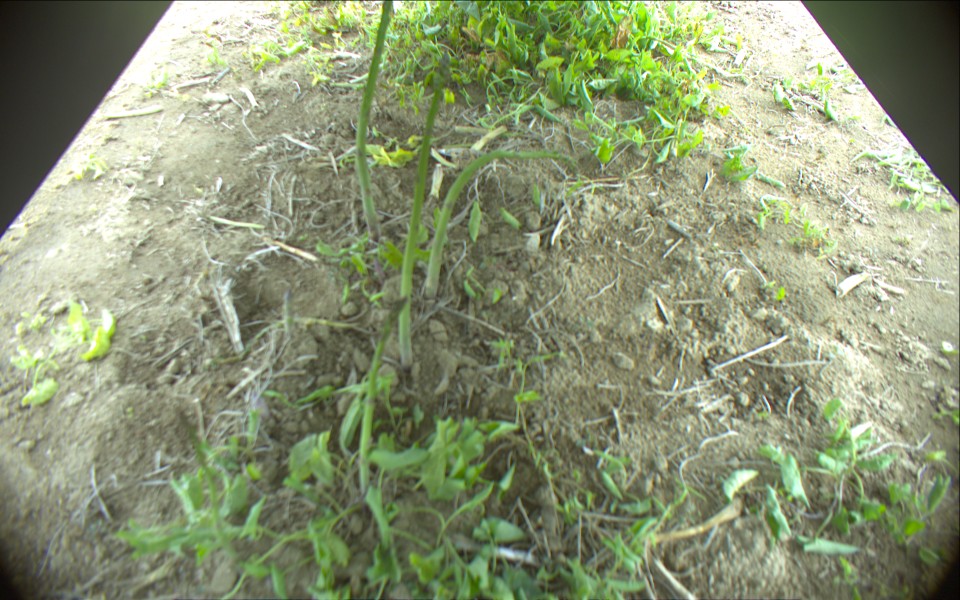aspa: (424, 149, 578, 299), (397, 50, 454, 368), (354, 1, 392, 280), (360, 293, 410, 502)
